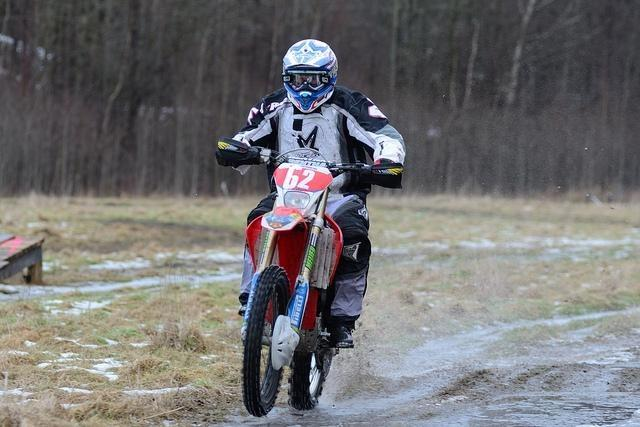motorcycle: (234, 141, 387, 421)
